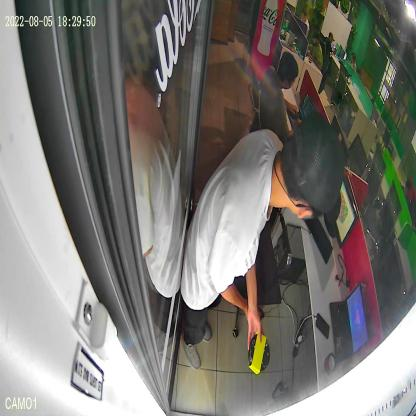yellow: (248, 330, 270, 376)
